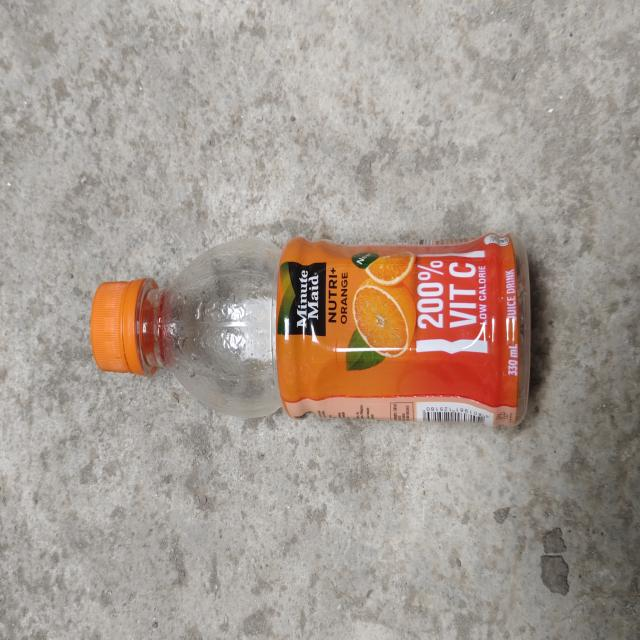Bottle: (91, 232, 530, 426)
